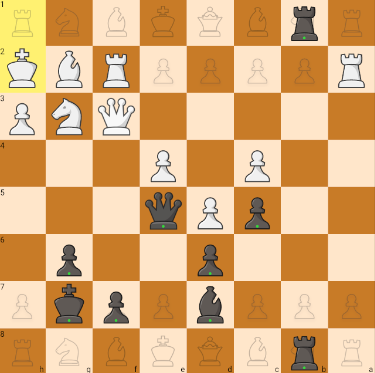bb: (192, 285, 229, 325)
bk: (47, 282, 91, 327)
bp: (2, 49, 41, 92), (97, 285, 136, 324), (51, 239, 86, 278), (195, 240, 229, 278)
bq: (141, 188, 184, 233)
br: (284, 332, 323, 373), (285, 2, 322, 43), (242, 192, 275, 232)
wb: (51, 51, 89, 91)
wn: (49, 98, 89, 136)
wp: (145, 141, 183, 183), (194, 194, 230, 231), (7, 97, 38, 136), (244, 146, 275, 185)
wq: (94, 96, 136, 136)
wr: (331, 51, 371, 90), (102, 51, 133, 90)
